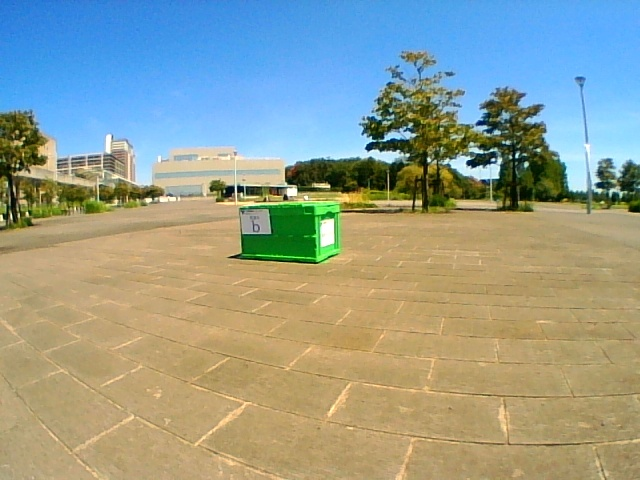green_box: (239, 204, 341, 262)
tag_b: (242, 208, 269, 234)
